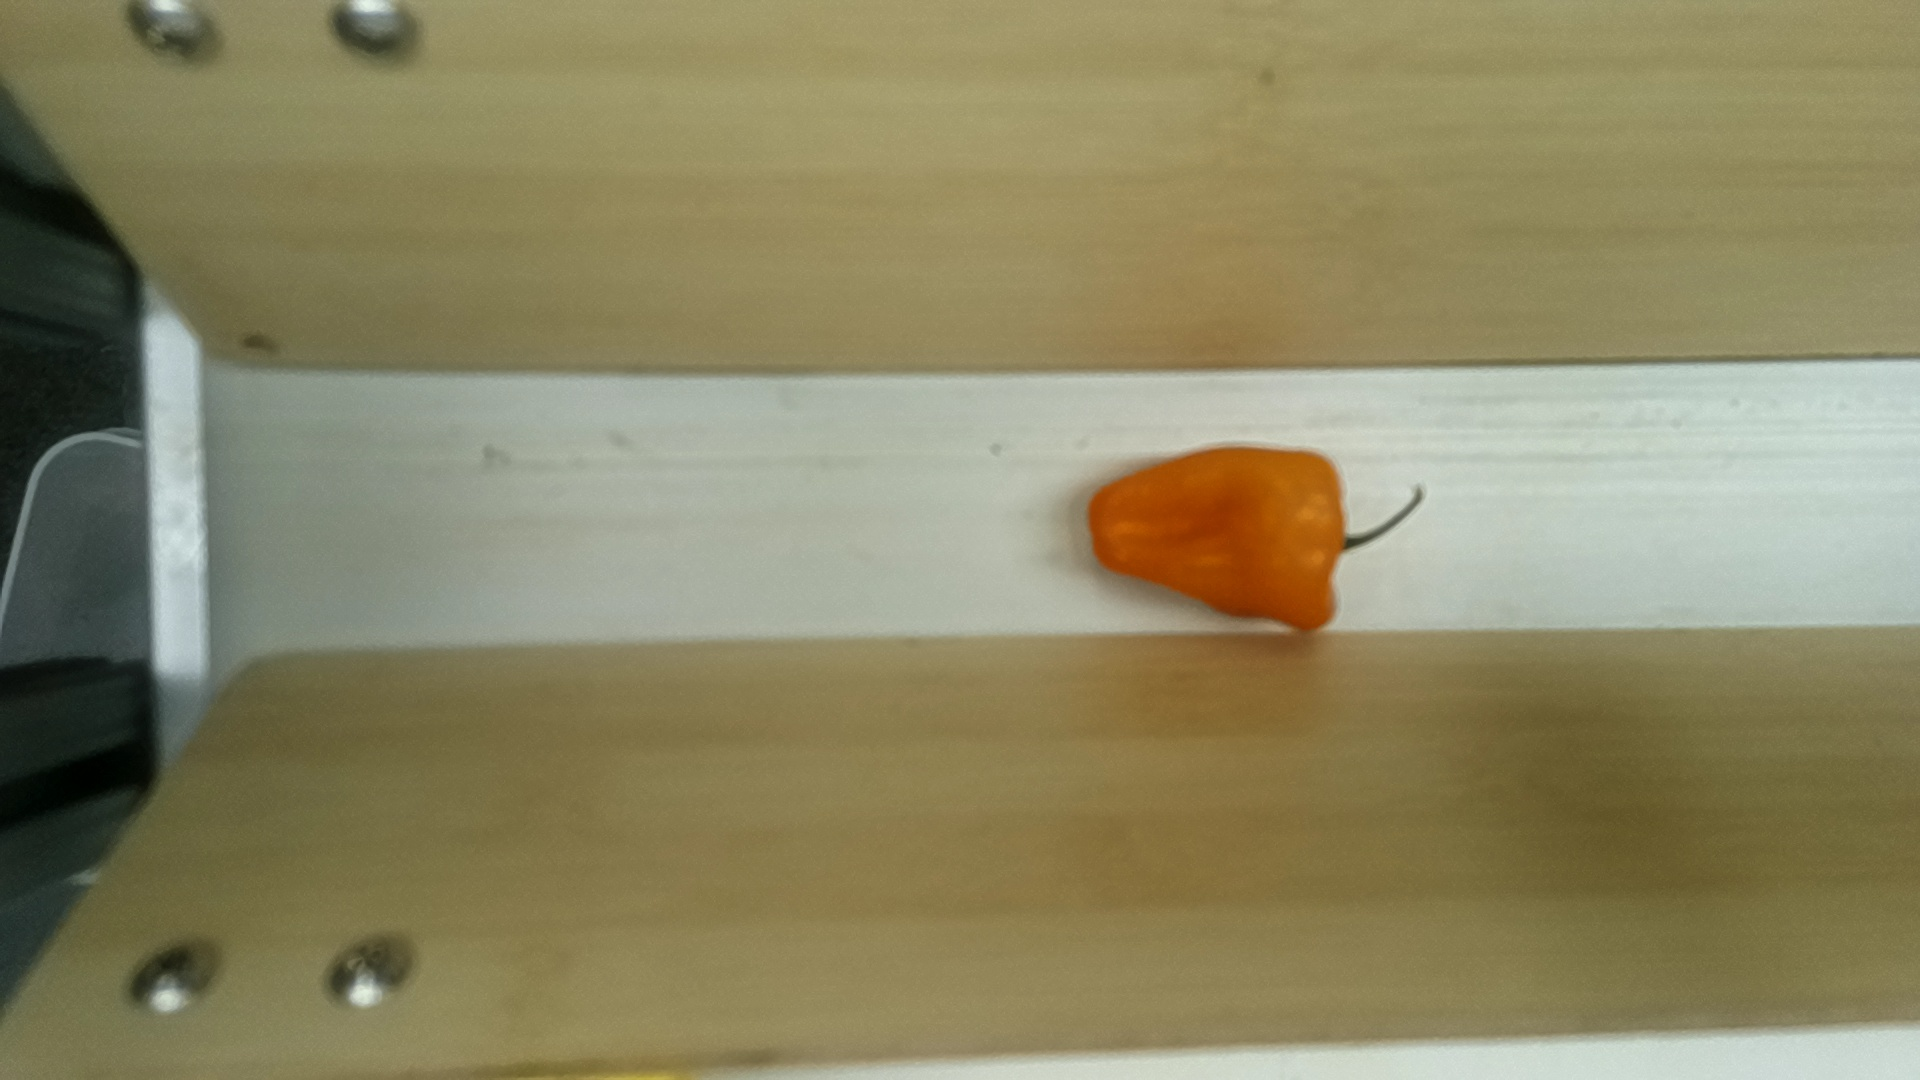Cut Point: (1300, 444, 1356, 644)
